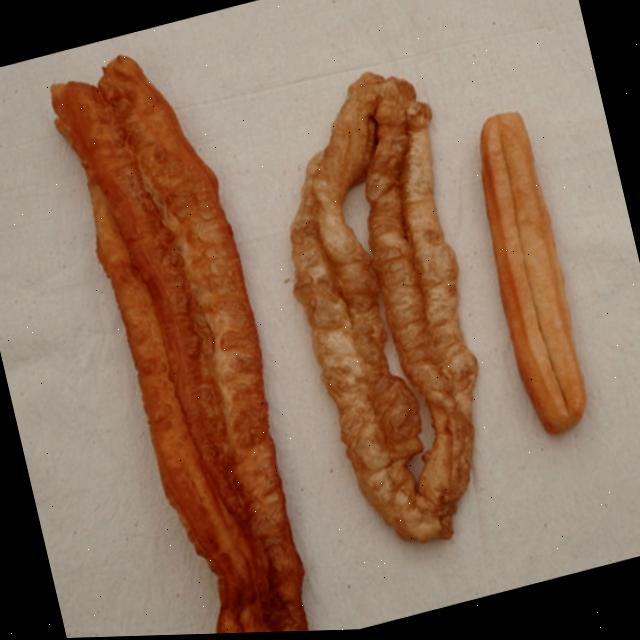炸货点心: (19, 0, 640, 640)
